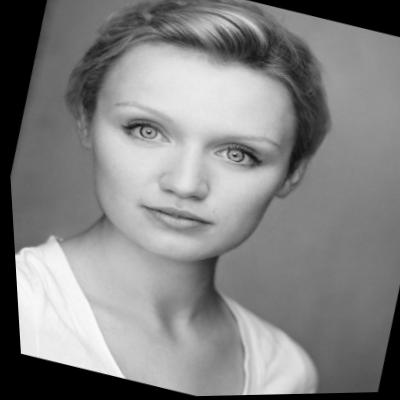netural: (55, 26, 313, 287)
